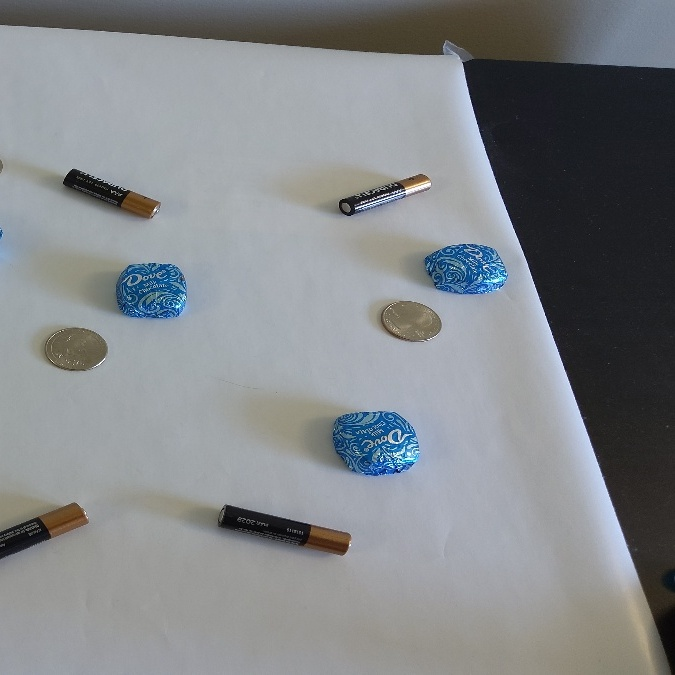battery: (199, 496, 368, 566), (46, 156, 171, 231), (327, 164, 444, 219)
chocolate_blue: (328, 401, 424, 479), (418, 239, 513, 299), (113, 254, 191, 320)
coin_quarter: (367, 288, 455, 351), (44, 320, 115, 379)
